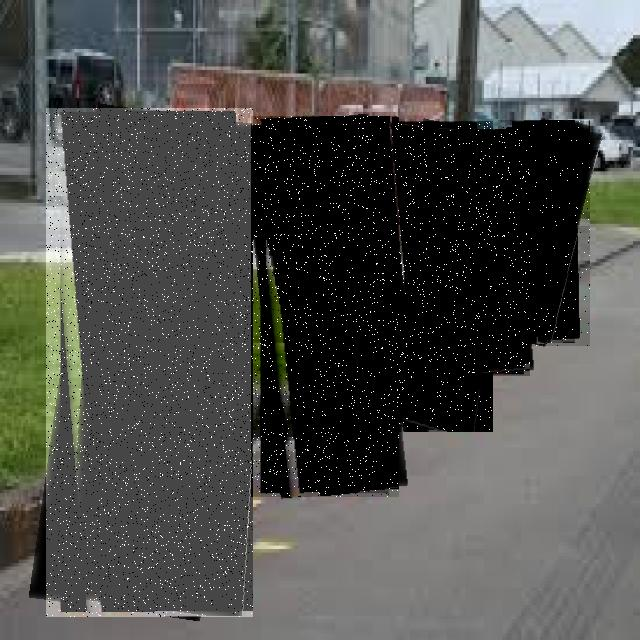Traffic-cone: (46, 108, 253, 617), (251, 116, 399, 497), (376, 121, 493, 432), (498, 120, 590, 346), (446, 130, 530, 376)
